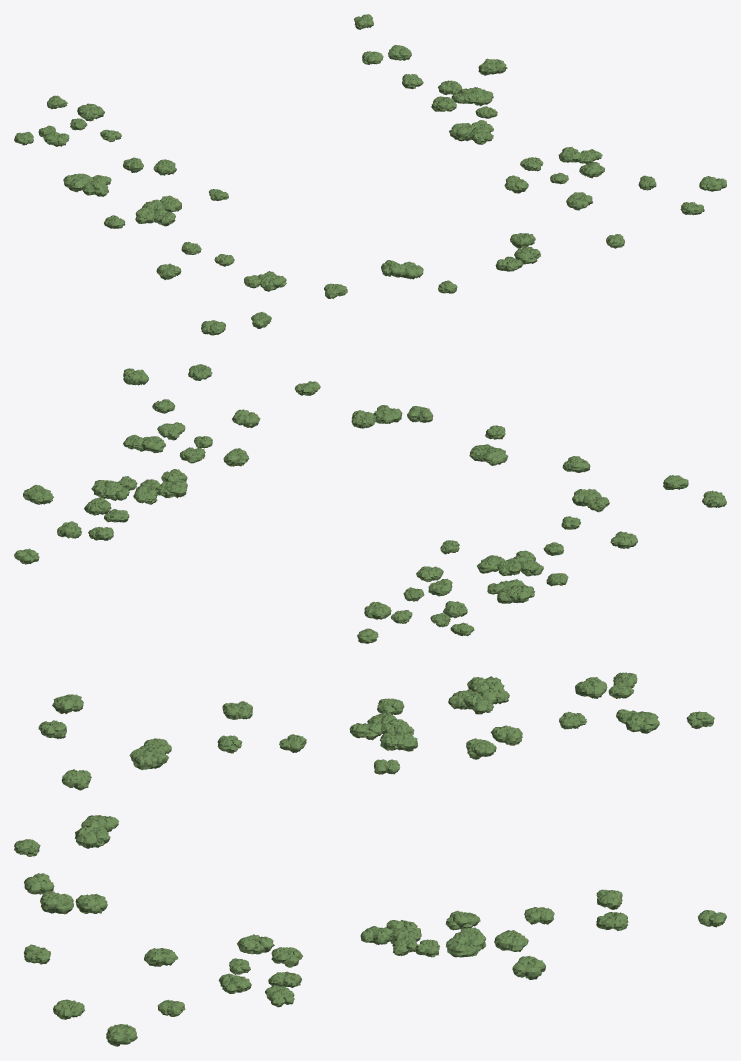
File: E7-7_Arvores_copas.fbx
The picture shows the model from 3 angles, top to bottom: view 1: azimuth 30°, elevation 25°; view 2: azimuth 150°, elevation 25°; view 3: azimuth 270°, elevation 25°; orthographic projection. The views are drawn at different scales.
Parts seen in each view (by area): view 1: E7-7_Arvores_copas; view 2: E7-7_Arvores_copas; view 3: E7-7_Arvores_copas.
Boxes of the visible parts, x1,y1,x2,y2 form: E7-7_Arvores_copas: (14, 14, 726, 335); E7-7_Arvores_copas: (14, 364, 726, 643); E7-7_Arvores_copas: (14, 672, 726, 1046).
Bounding box in the file's own units: 279 × 22.58 × 241.
